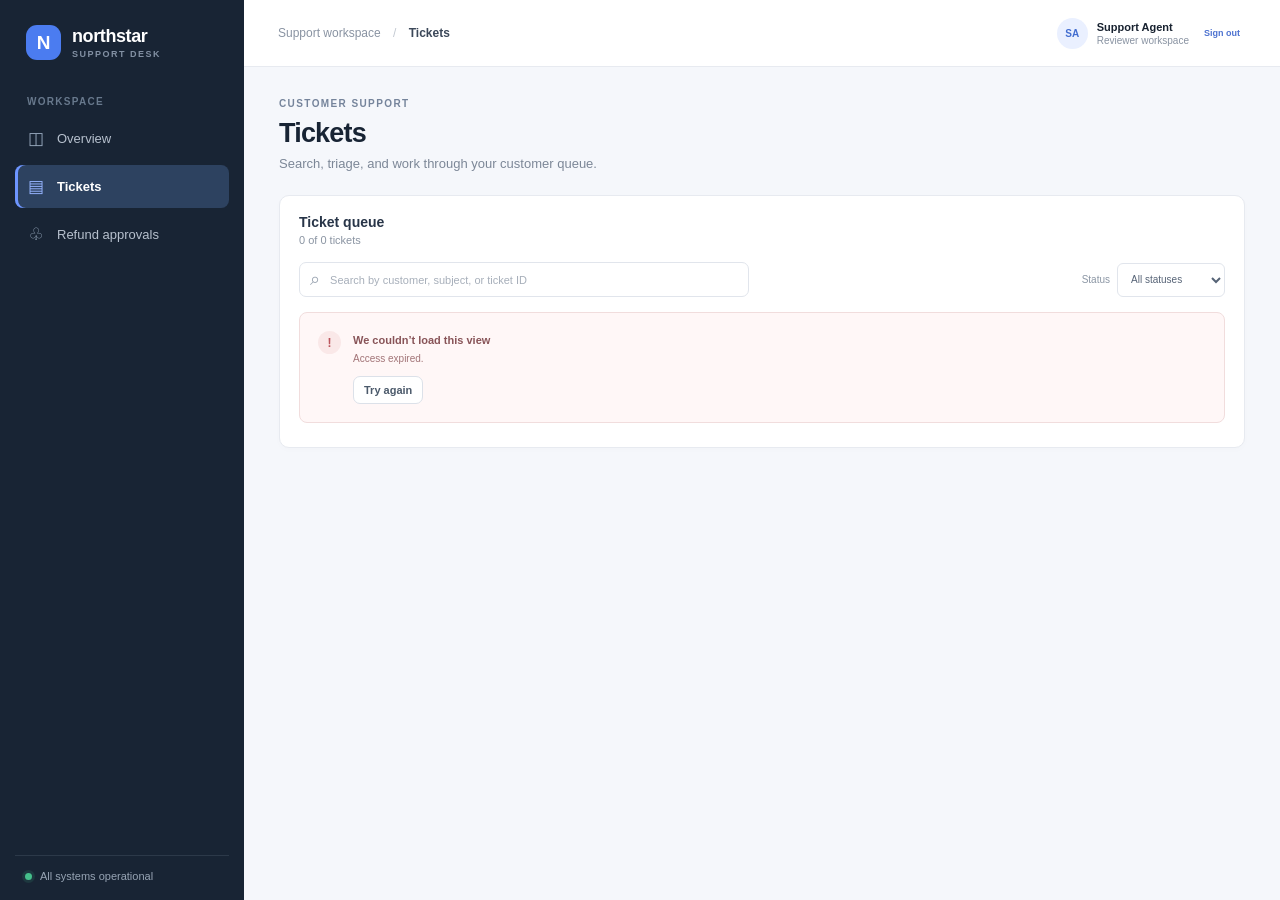
support dashboard › shows an API error state and allows a retry
Check: the text "Access expired." is shown, box [353,353,424,364]
Click the button "Try again".
click(388, 390)  # box [353,376,423,404]
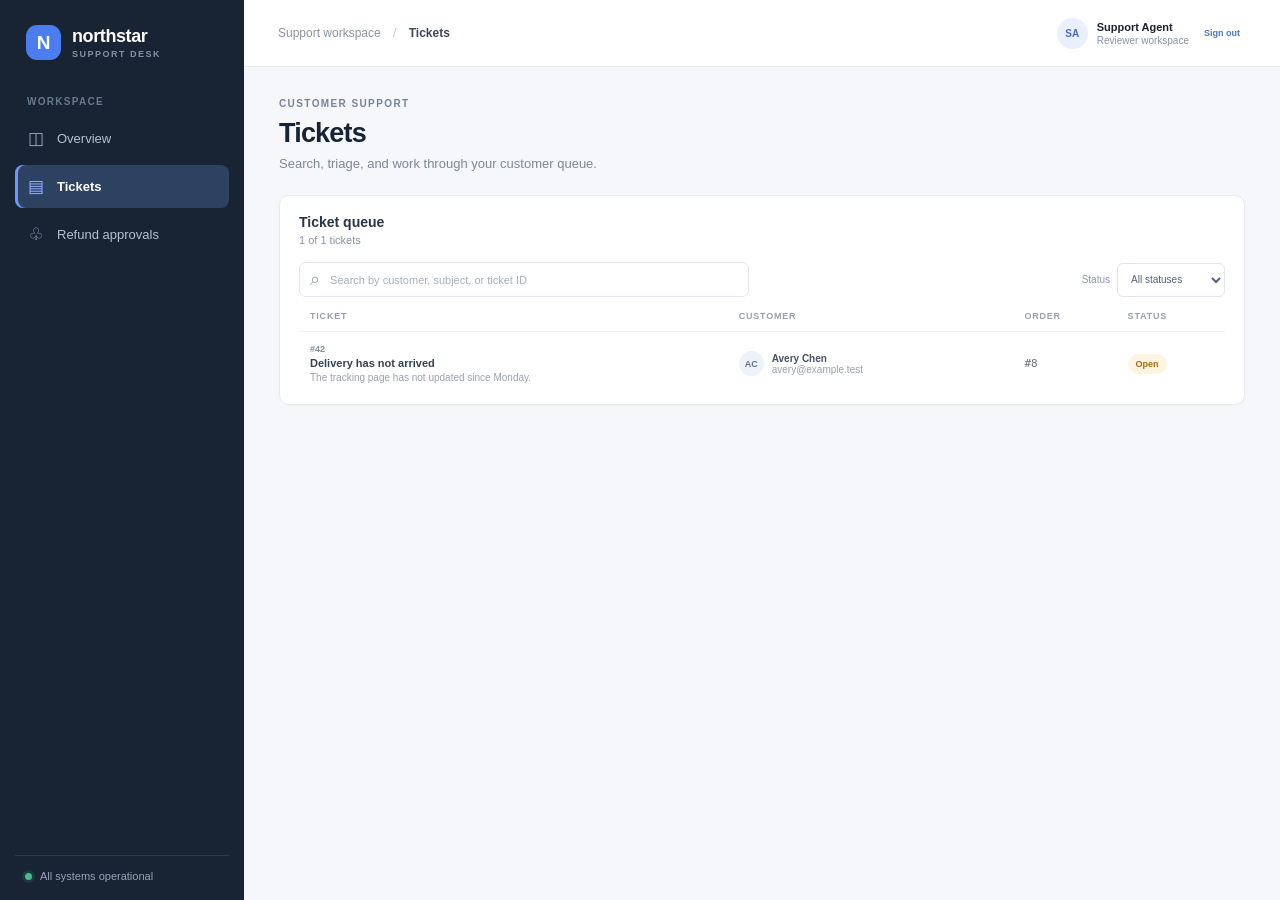
Check: the text "Delivery has not arrived" is shown, box [310,357,435,369]
